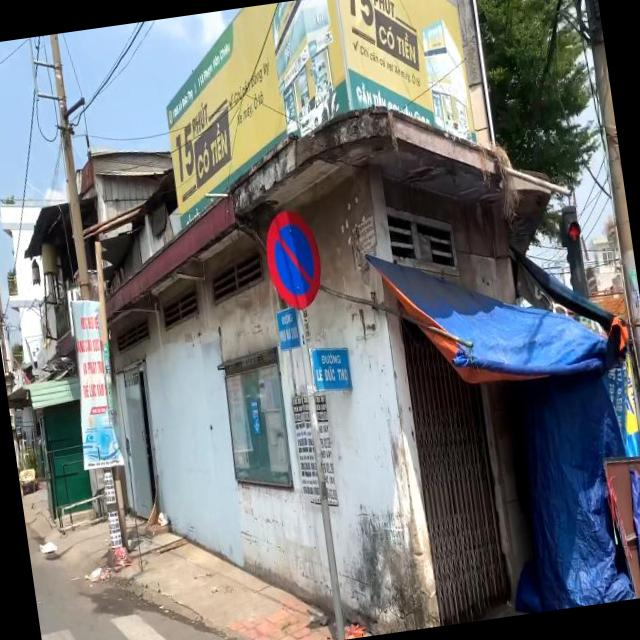P-131a: (260, 204, 324, 313)
